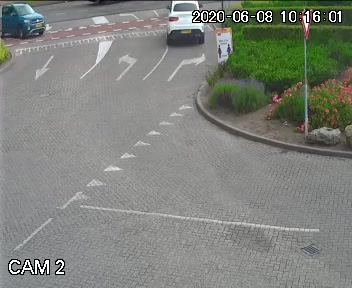car: (145, 0, 214, 46), (0, 0, 53, 41)
